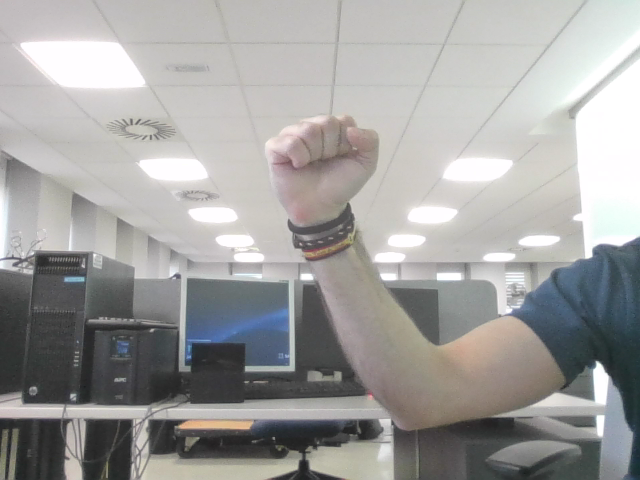Puño: (279, 120, 366, 186)
